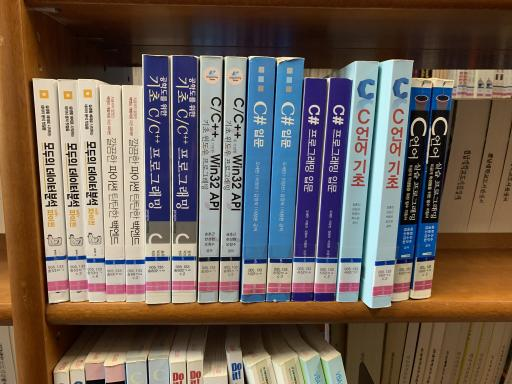book-spine: (372, 60, 413, 308), (337, 61, 379, 301), (411, 78, 454, 299), (391, 79, 433, 301), (266, 58, 304, 301), (241, 57, 276, 302), (33, 79, 70, 304), (291, 78, 327, 301), (315, 78, 351, 301), (58, 80, 89, 302), (144, 55, 171, 304), (220, 57, 247, 303), (77, 79, 106, 302), (172, 55, 197, 303), (198, 56, 223, 303), (100, 85, 125, 302), (122, 85, 144, 302)
